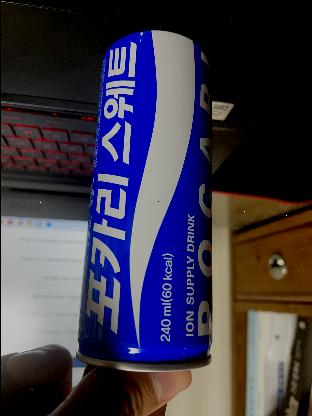Can: (78, 27, 214, 378)
